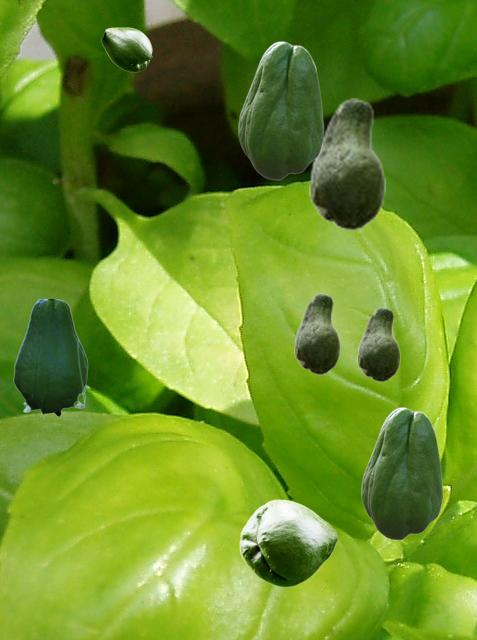sayote: (238, 41, 323, 179), (361, 407, 442, 539), (309, 98, 384, 230), (13, 299, 89, 418), (239, 499, 337, 586), (294, 293, 339, 374), (357, 307, 399, 381), (101, 27, 151, 71)
